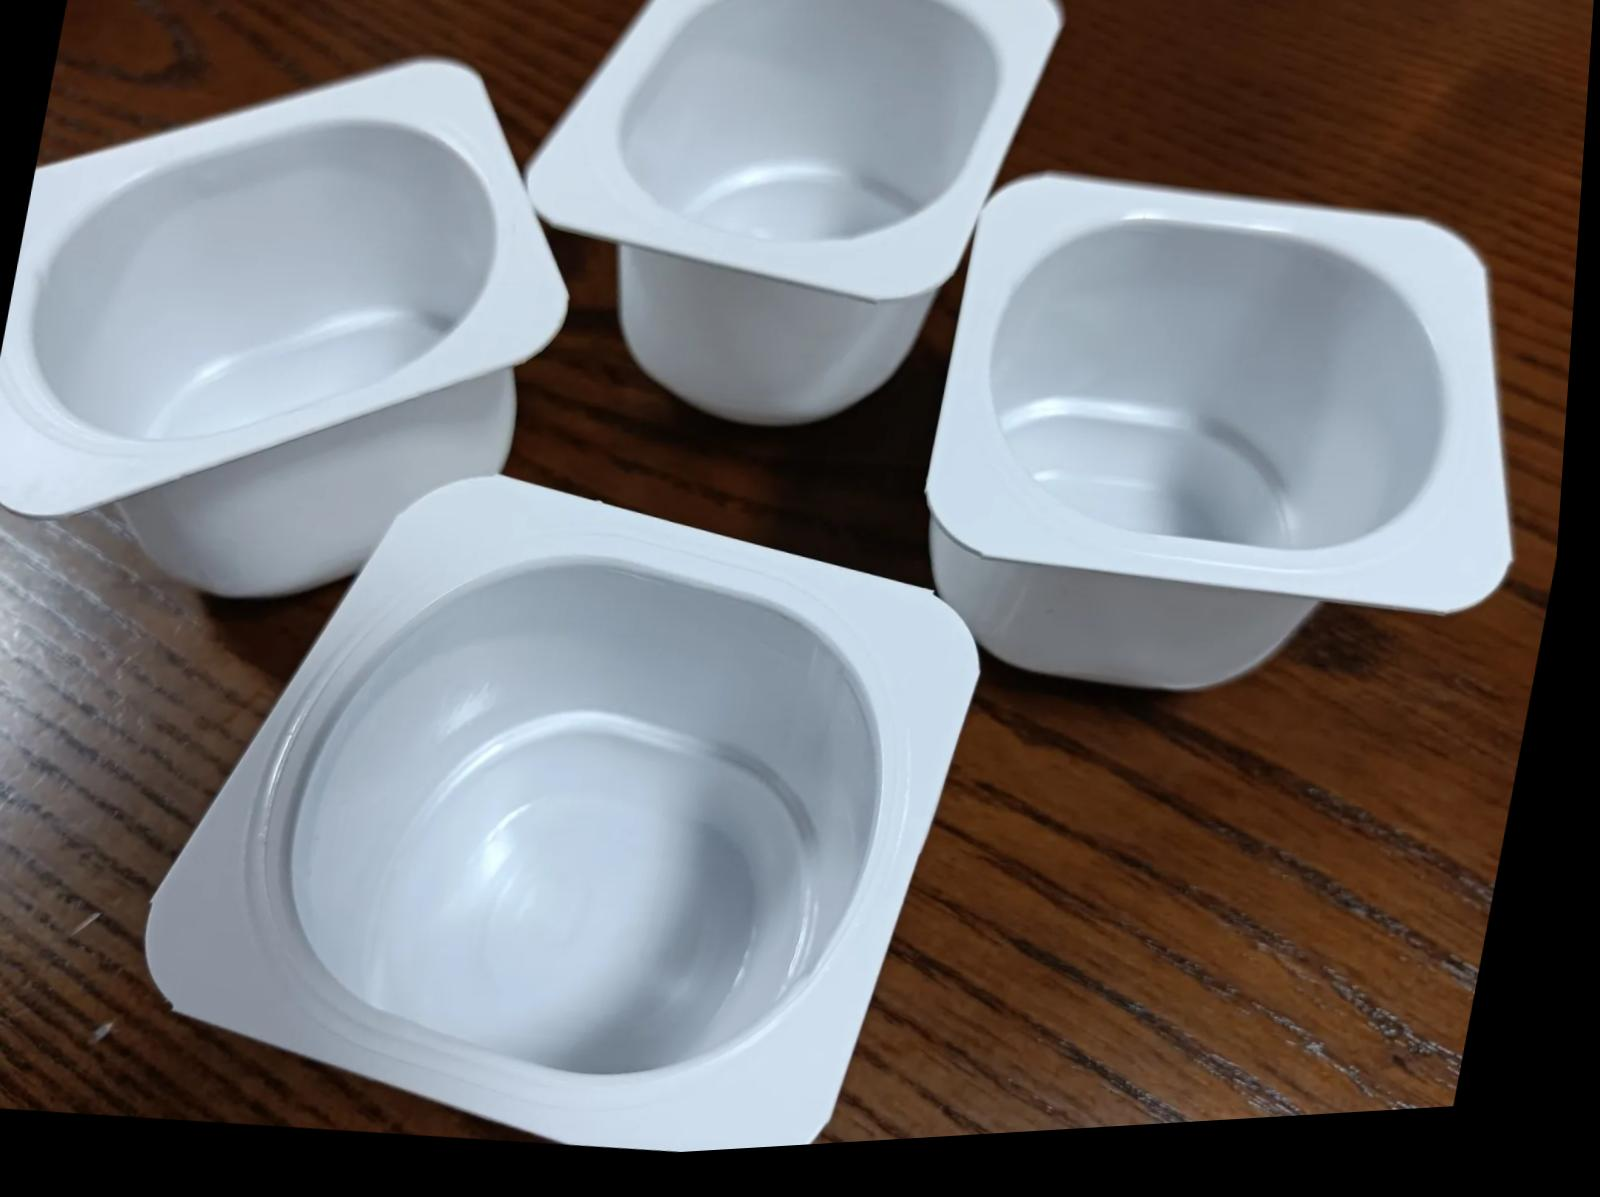plastic: (146, 478, 977, 1152), (0, 6, 566, 597), (928, 174, 1510, 690), (525, 0, 1060, 424)
